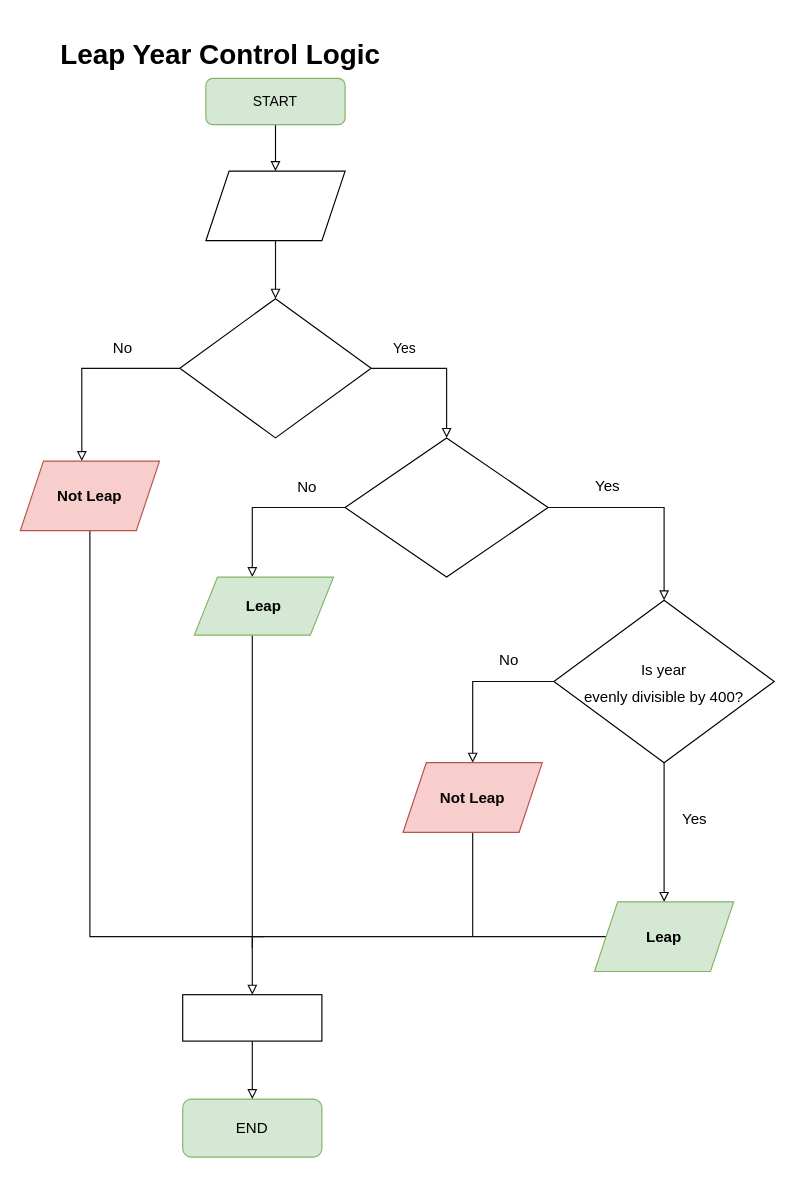
Some shapes in this 795 by 1177 pixel diagram are drawn without their labels. The box of each missing label's shape, as (x1, y1, x2, y2) in pixels:
Is year evenly divisible by 100?: (344, 437, 548, 577)
Is year evenly divisible by 4?: (179, 298, 371, 438)
Print year: (182, 994, 322, 1041)
Read Year: (205, 170, 345, 241)
